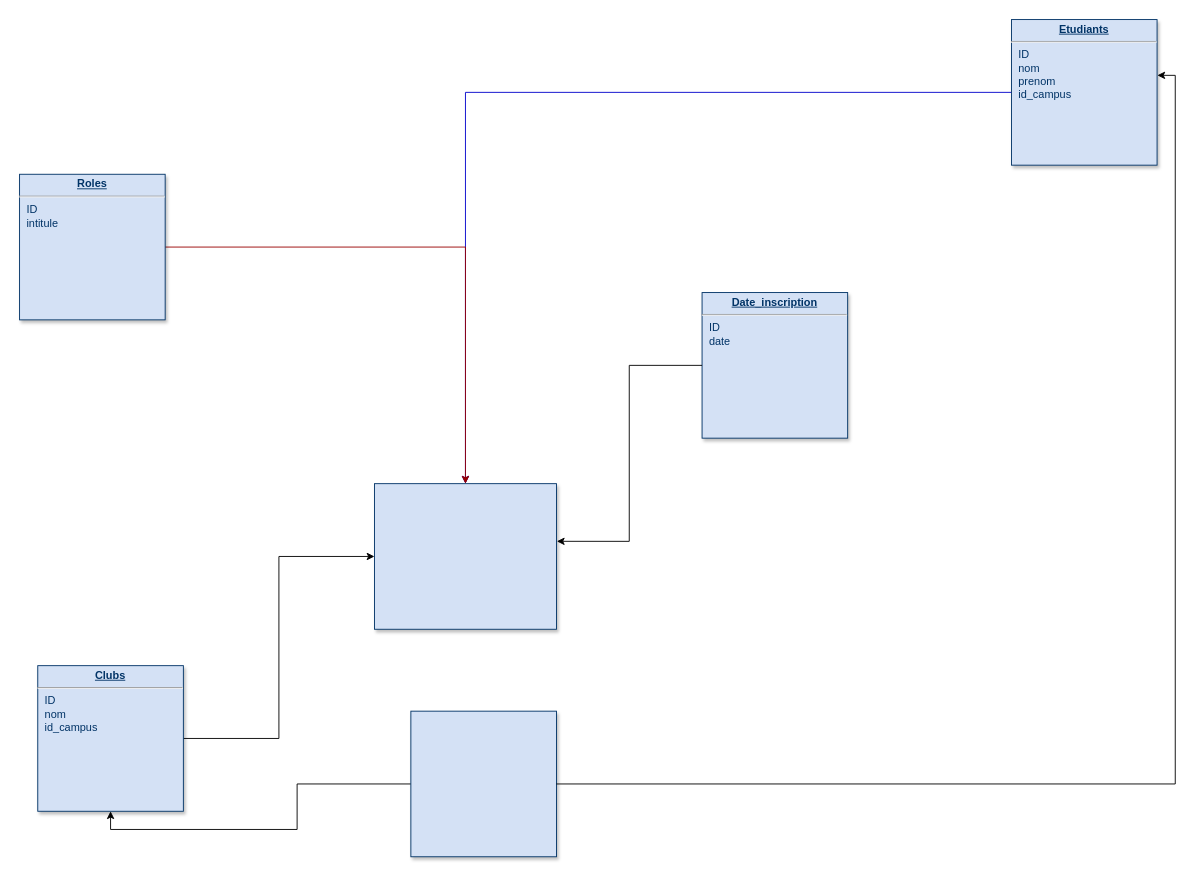
This 1198x879 diagram has some shape labels left out. The shapes that lost their labels are listed below. From the top down, each one's centre as x and y in pixels, then its label:
At point 466,557: "Roles_Club_Etudiants_Date id_role id_club id_etudiant id_date".
At point 484,785: "Campus ID Nom address".
